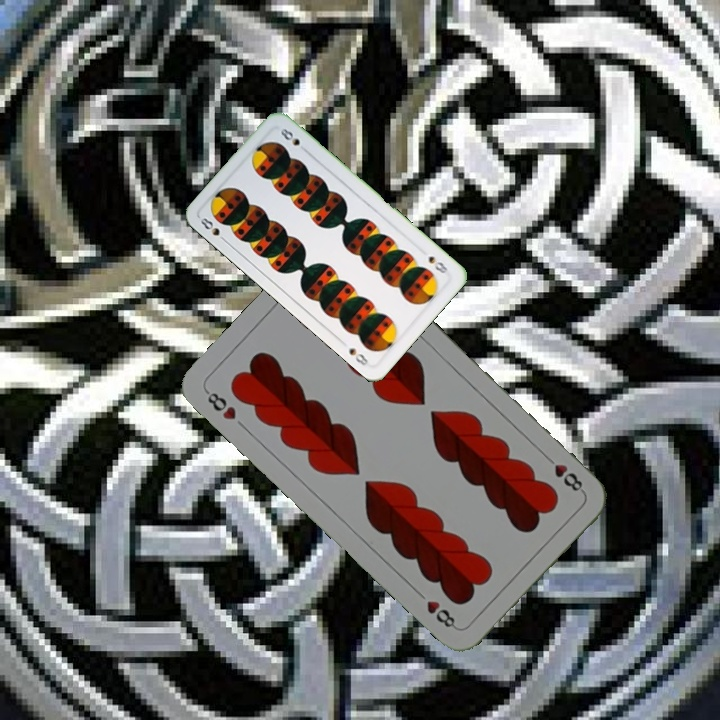H8: (540, 450, 587, 496), (201, 386, 239, 423)
S8: (196, 214, 230, 245), (424, 252, 450, 276)
